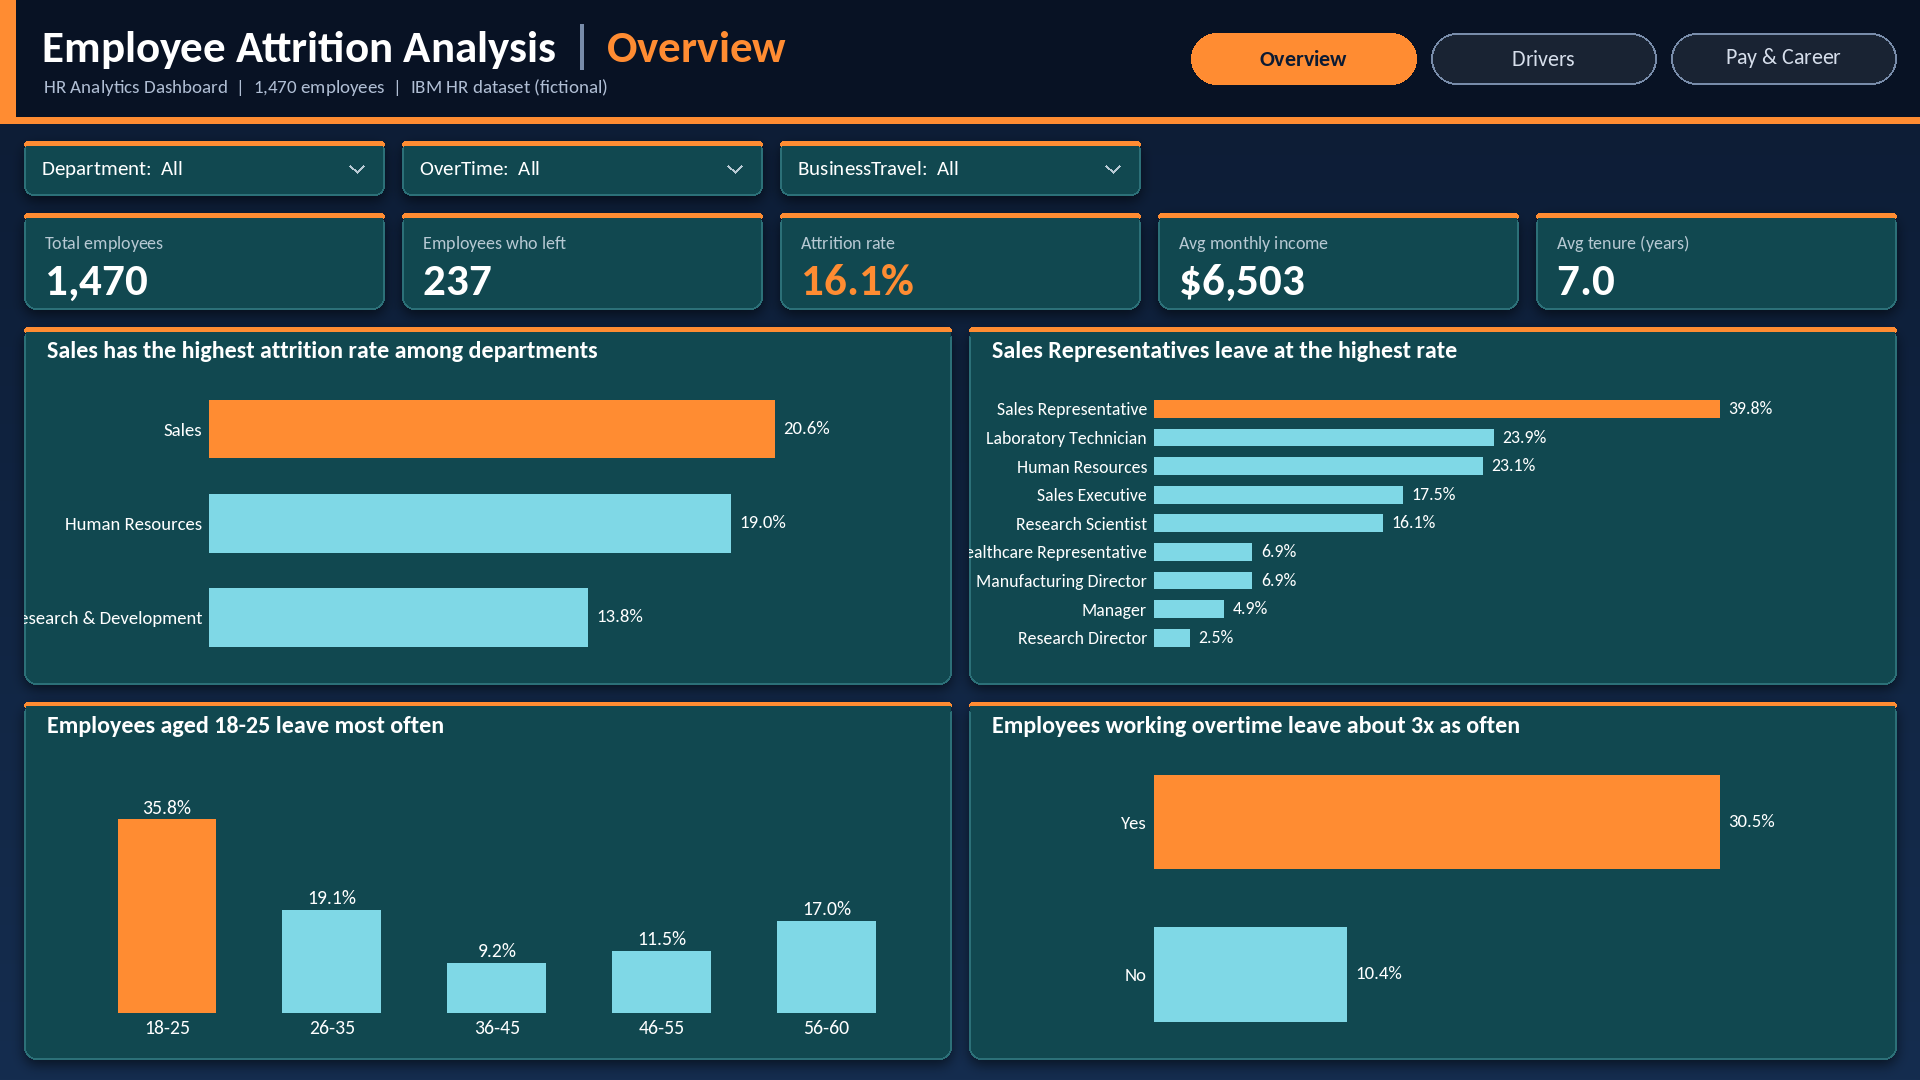

The dashboard page shown, as its layout file describes it:
{"tool":"powerbi","page":{"name":"Overview","canvas":[1920,1080],"ordinal":0},"visuals":[{"type":"slicer","title":"Department","fields":{"Values":["employees.Department"]},"box":[121.2,143,266,47.1],"z":0},{"type":"slicer","fields":{"Values":["employees.BusinessTravel"]},"box":[912.1,143,228,47.1],"z":1000},{"type":"slicer","fields":{"Values":["employees.OverTime"]},"box":[492.2,143,267.8,47.1],"z":2000},{"type":"textbox","box":[29,153.8,108.6,23.5],"z":3000},{"type":"textbox","box":[412.6,153.8,92.3,23.5],"z":4000},{"type":"textbox","box":[792.6,155.6,119.4,21.7],"z":5000},{"type":"cardVisual","title":"Total Employees","fields":{"Data":["_measures.total_employees"]},"box":[29,215.3,358.3,90.5],"z":6000},{"type":"cardVisual","title":"Employees who left","fields":{"Data":["_measures.attrition_count"]},"box":[412.6,215.3,347.5,90.5],"z":7000},{"type":"cardVisual","title":"Attrition rate","fields":{"Data":["_measures.attrition_rate"]},"box":[792.6,215.3,347.5,90.5],"z":8000},{"type":"cardVisual","title":"Avg monthly income","fields":{"Data":["_measures.avg_monthly_income"]},"box":[1172.7,215.3,347.5,90.5],"z":9000},{"type":"cardVisual","title":"Avg tenure (years)","fields":{"Data":["_measures.avg_tenure_years"]},"box":[1549.1,215.3,347.5,90.5],"z":10000},{"type":"clusteredBarChart","title":"Sales has the highest attrition rate among departments","fields":{"Category":["employees.Department"],"Y":["_measures.attrition_rate"]},"box":[27.1,329.4,932,351.1],"z":11000},{"type":"clusteredBarChart","title":"Sales Representatives leave at the highest rate","fields":{"Category":["employees.JobRole"],"Y":["_measures.attrition_rate"]},"box":[964.5,329.4,932,351.1],"z":12000},{"type":"clusteredColumnChart","title":"Employees aged 18-25 leave most often","fields":{"Category":["employees.age_band"],"Y":["_measures.attrition_rate"]},"box":[27.1,704,932,351.1],"z":13000},{"type":"clusteredBarChart","title":"Employees working overtime leave about 3x as often","fields":{"Category":["employees.OverTime"],"Y":["_measures.attrition_rate"]},"box":[977.2,704,919.3,351.1],"z":14000},{"type":"pageNavigator","box":[1187.1,25.8,710.4,57.1],"z":14001}]}

Visuals, with their boxes in screenshot pixels (x1, y1, x2, y2), scaled from the page's 1920x1080 canvas onto the 1920x1080 screenshot:
"Department" slicer: [121,143,387,190]
slicer - employees.BusinessTravel: [912,143,1140,190]
slicer - employees.OverTime: [492,143,760,190]
textbox: [29,154,138,177]
textbox: [413,154,505,177]
textbox: [793,156,912,177]
"Total Employees" cardVisual: [29,215,387,306]
"Employees who left" cardVisual: [413,215,760,306]
"Attrition rate" cardVisual: [793,215,1140,306]
"Avg monthly income" cardVisual: [1173,215,1520,306]
"Avg tenure (years)" cardVisual: [1549,215,1897,306]
"Sales has the highest attrition rate among departments" clusteredBarChart: [27,329,959,680]
"Sales Representatives leave at the highest rate" clusteredBarChart: [964,329,1896,680]
"Employees aged 18-25 leave most often" clusteredColumnChart: [27,704,959,1055]
"Employees working overtime leave about 3x as often" clusteredBarChart: [977,704,1896,1055]
pageNavigator: [1187,26,1898,83]
